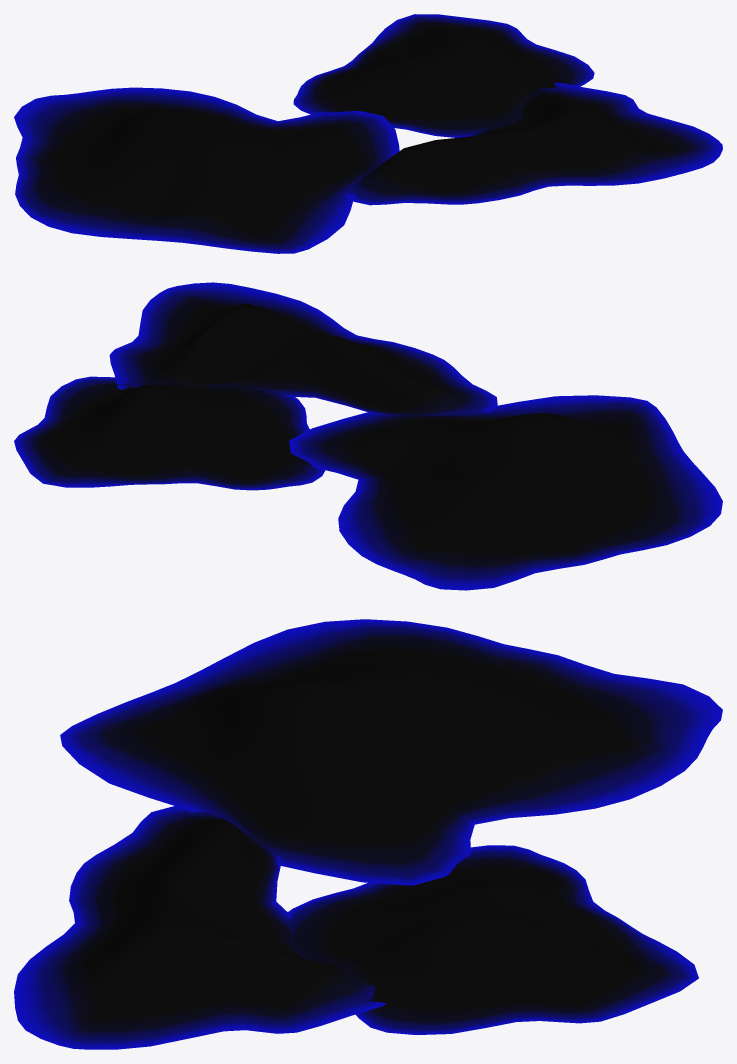
Rendered from DBK_BrickMedium_Rubble_Tile.FBX.
3 views of the same model, one above another, from view 1: azimuth 30°, elevation 25°; view 2: azimuth 150°, elevation 25°; view 3: azimuth 270°, elevation 25° (orthographic). The views are drawn at different scales.
Visible parts, largest first — view 1: DBK_BrickMedium_Rubble_Tile; view 2: DBK_BrickMedium_Rubble_Tile; view 3: DBK_BrickMedium_Rubble_Tile.
Boxes of the visible parts, left/top/right/bottom form: DBK_BrickMedium_Rubble_Tile: left=14, top=14, right=722, bottom=253; DBK_BrickMedium_Rubble_Tile: left=14, top=282, right=722, bottom=590; DBK_BrickMedium_Rubble_Tile: left=14, top=619, right=722, bottom=1049.
Size of the model in its own units: 3645 by 242 by 2536.
